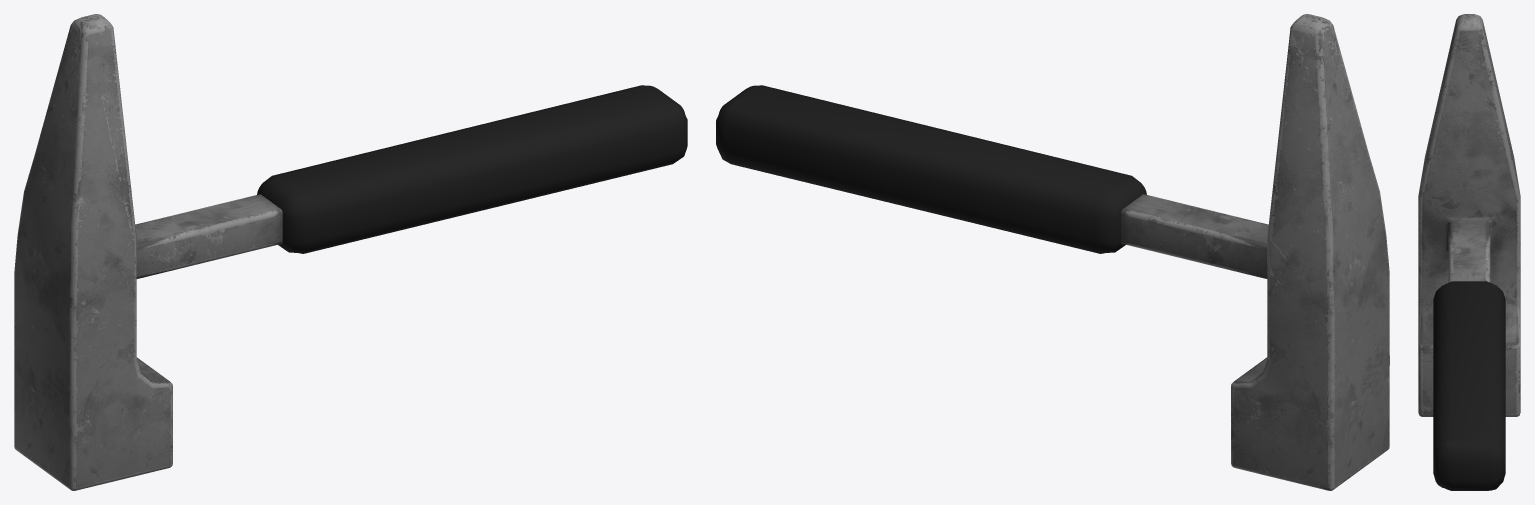
The model's file is MarteauFinal.fbx.
3 renders of one model, left to right at view 1: azimuth 30°, elevation 25°; view 2: azimuth 150°, elevation 25°; view 3: azimuth 270°, elevation 25°, orthographic. The views are drawn at different scales.
Parts seen in each view (by area): view 1: Cube.001; view 2: Cube.001; view 3: Cube.001.
Boxes of the visible parts, box(x1,y1,x2,y2) form: Cube.001: box(14, 14, 687, 490); Cube.001: box(716, 14, 1389, 490); Cube.001: box(1418, 14, 1520, 490).
Size of the model in its own units: 43.56 by 29.01 by 7.08.
